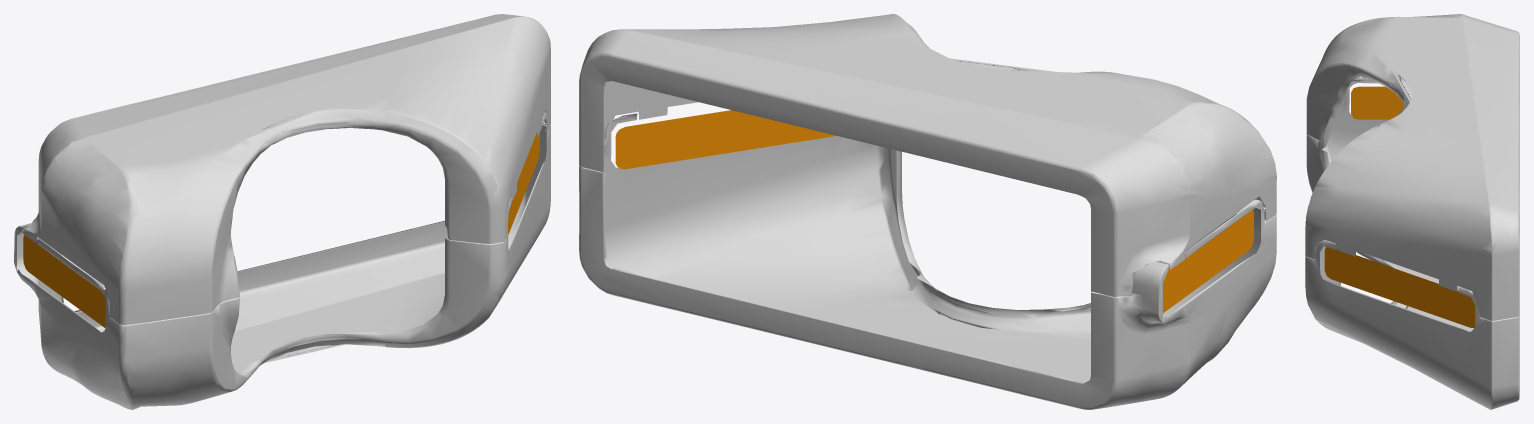
The model's file is sim_ecub_l_ankle_2.obj.
3 renders of one model, left to right at view 1: azimuth 30°, elevation 25°; view 2: azimuth 150°, elevation 25°; view 3: azimuth 270°, elevation 25°, orthographic. The views are drawn at different scales.
Bounding box in the file's own units: 259 × 111 × 106.
